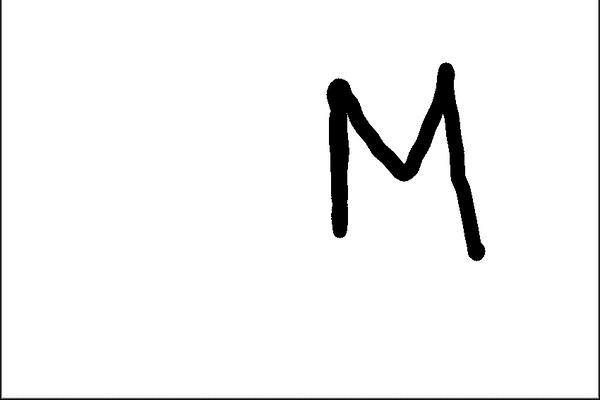M: (316, 61, 495, 261)
